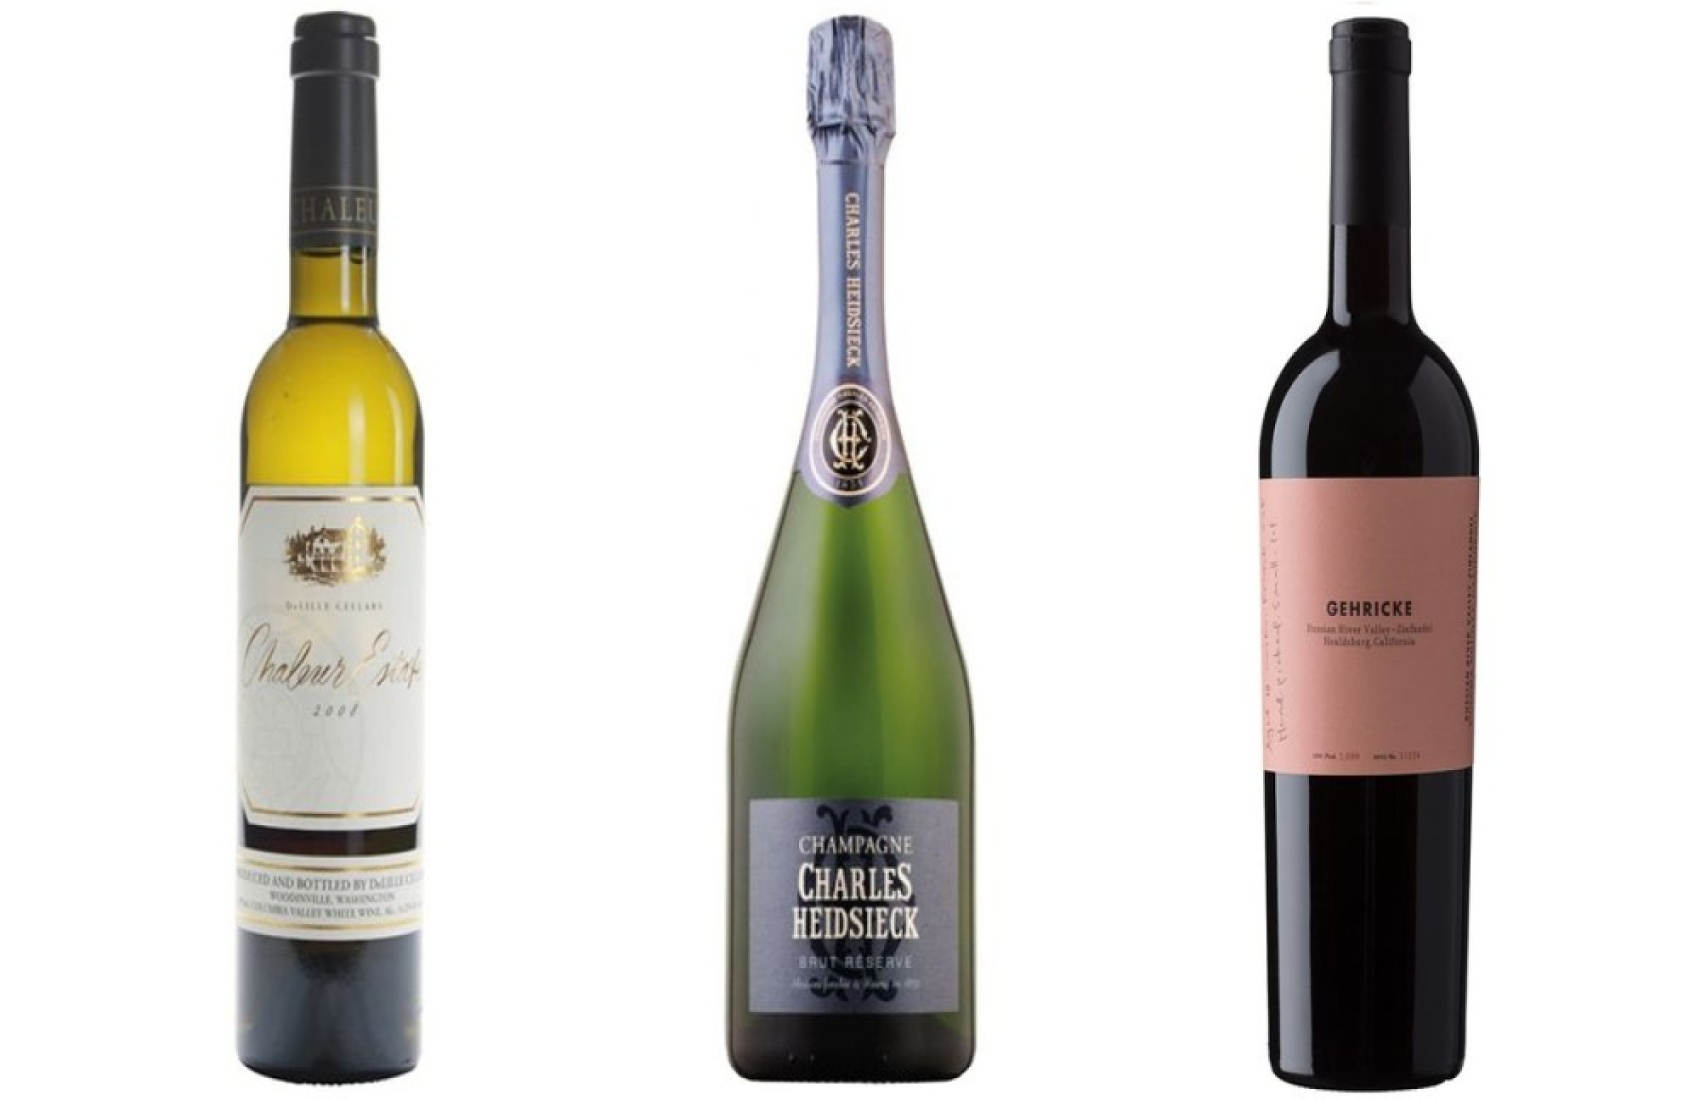wine: (722, 16, 968, 1090), (1268, 35, 1479, 1076), (239, 36, 418, 1081)
